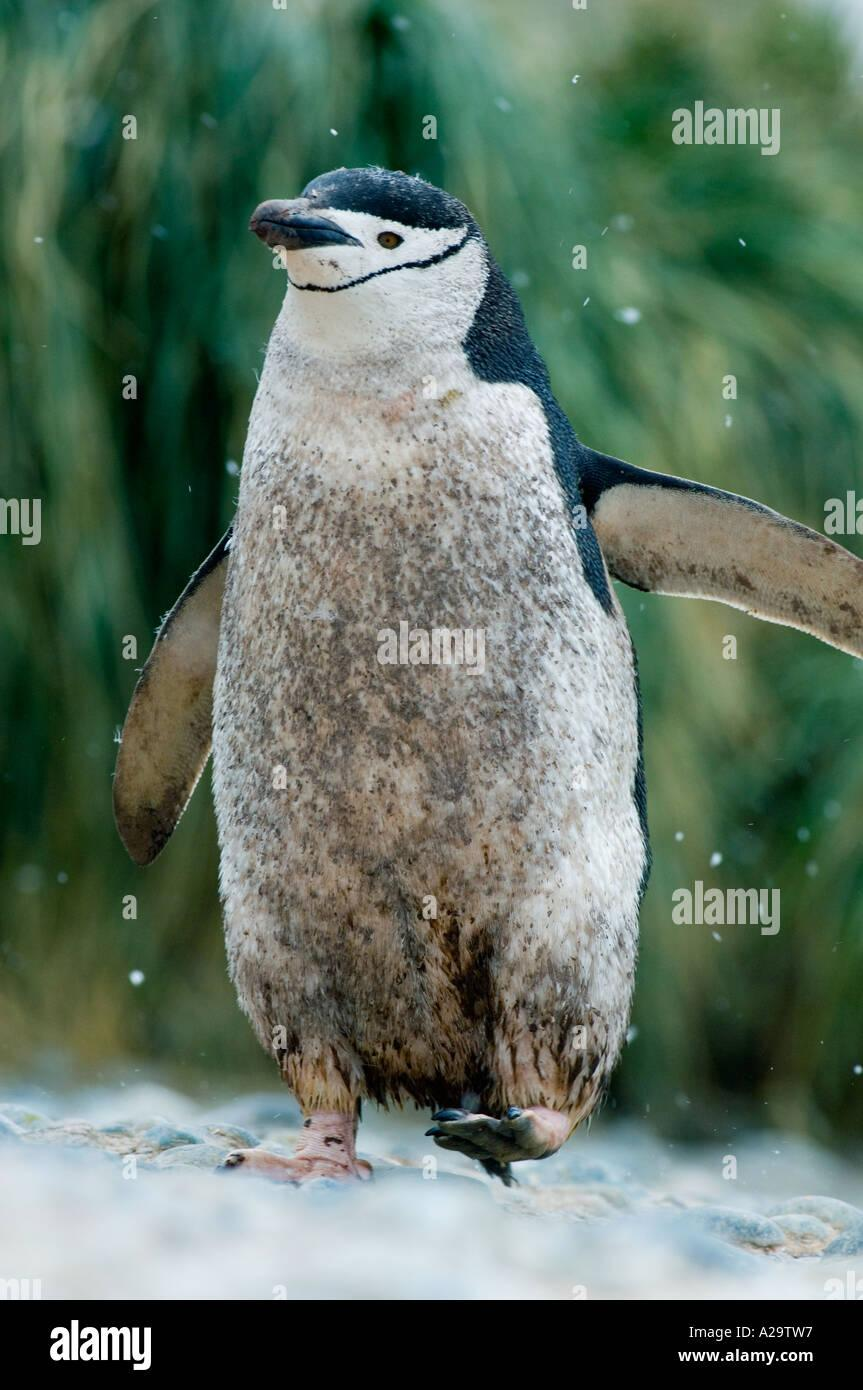chinstrap: (115, 137, 818, 1166)
